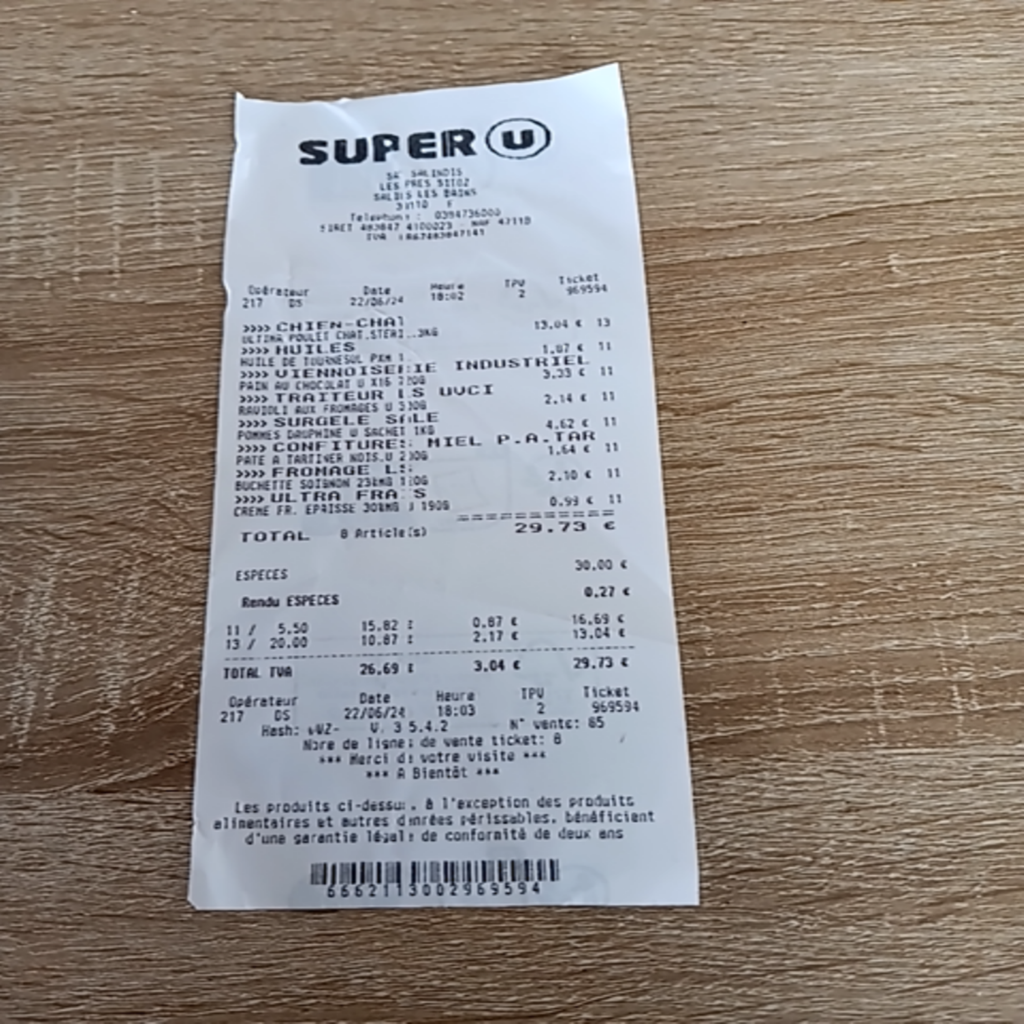recipt: (189, 61, 703, 909)
